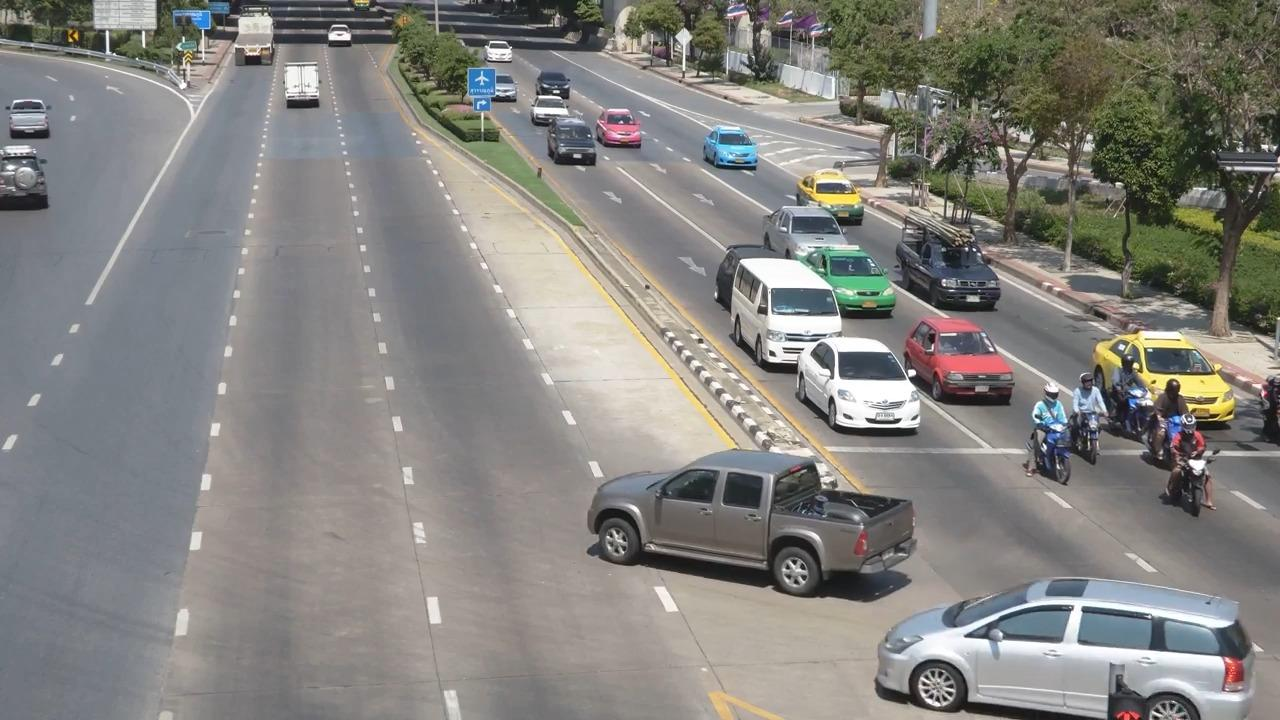CAR: (578, 439, 934, 626), (868, 556, 1272, 720), (1076, 302, 1245, 420), (793, 331, 931, 438), (734, 252, 848, 372), (898, 211, 1007, 314), (912, 308, 1022, 407), (795, 230, 897, 307), (759, 189, 848, 262), (698, 120, 773, 184), (0, 145, 61, 222), (789, 166, 868, 221), (271, 58, 334, 122), (542, 115, 599, 171), (1, 90, 57, 145), (590, 103, 651, 148), (531, 65, 578, 102), (531, 95, 578, 132), (321, 19, 363, 53), (484, 73, 520, 106), (486, 36, 519, 65)
HGV_BUS: (225, 9, 285, 77)
MOTOR: (1151, 406, 1226, 508), (1016, 378, 1077, 478), (1101, 353, 1149, 442), (1064, 368, 1110, 458)
